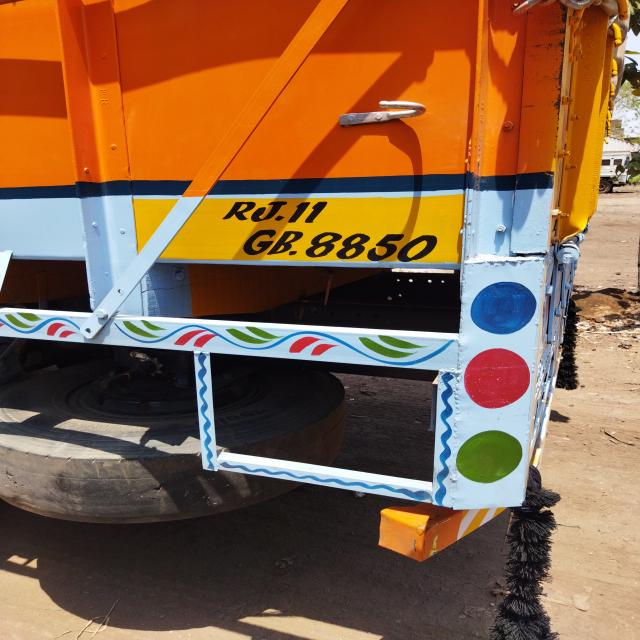Number_Plate_Detected: (123, 190, 468, 265)
